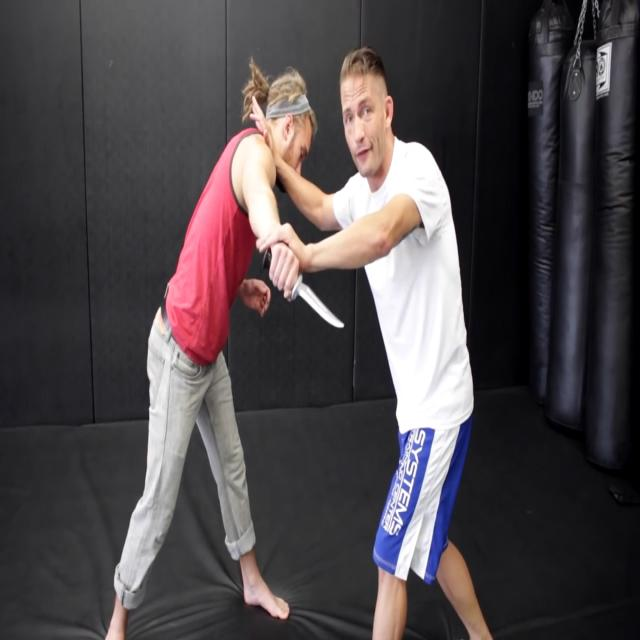knife: (296, 278, 348, 337)
